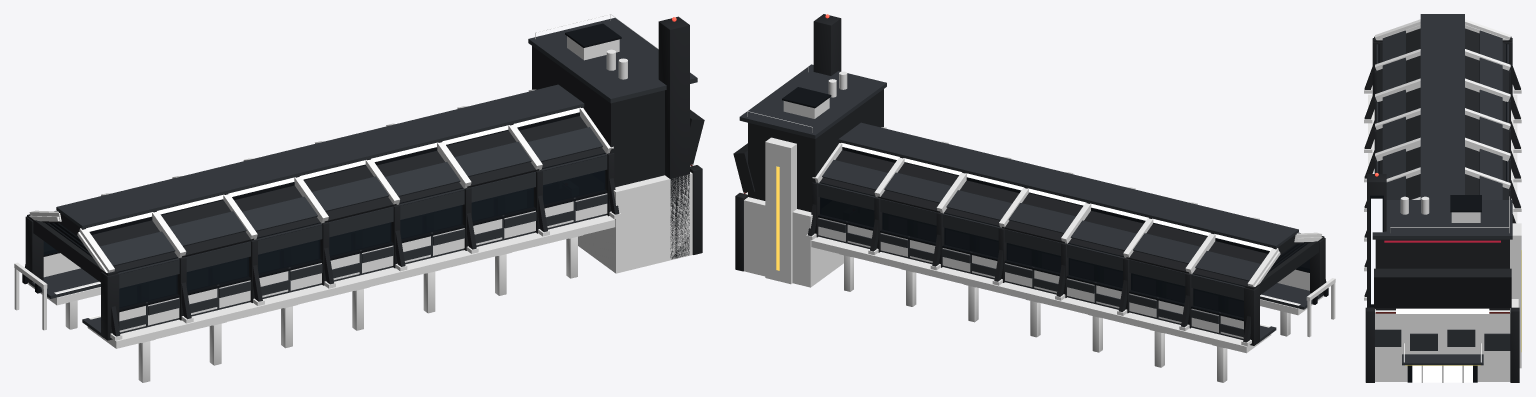
Rendered from train_station.gltf.
3 renders of one model, left to right at view 1: azimuth 30°, elevation 25°; view 2: azimuth 150°, elevation 25°; view 3: azimuth 270°, elevation 25°, orthographic. The views are drawn at different scales.
Visible parts, largest first — view 1: panel, graphite, steel, concrete, glass, dark, ice, mech; view 2: panel, graphite, steel, concrete, glass, dark, ice, mech; view 3: panel, graphite, steel, interior, dark, concrete, sign, halo, mech, titanium, lamp, detail_steel.
Boxes of the visible parts, left/top/right/bottom form: panel: left=29, top=18, right=697, bottom=337; graphite: left=25, top=16, right=704, bottom=340; steel: left=14, top=89, right=692, bottom=342; concrete: left=28, top=215, right=615, bottom=382; glass: left=43, top=170, right=605, bottom=307; dark: left=22, top=23, right=621, bottom=312; ice: left=56, top=108, right=579, bottom=318; mech: left=567, top=36, right=619, bottom=60; panel: left=739, top=64, right=1322, bottom=343; graphite: left=733, top=14, right=1326, bottom=345; steel: left=744, top=127, right=1335, bottom=348; concrete: left=811, top=236, right=1323, bottom=382; glass: left=820, top=197, right=1309, bottom=317; dark: left=782, top=87, right=1328, bottom=321; ice: left=842, top=143, right=1298, bottom=326; mech: left=783, top=98, right=829, bottom=118; panel: left=1372, top=14, right=1512, bottom=365; graphite: left=1364, top=28, right=1520, bottom=382; steel: left=1364, top=19, right=1521, bottom=382; interior: left=1396, top=308, right=1489, bottom=382; dark: left=1370, top=44, right=1506, bottom=382; concrete: left=1368, top=94, right=1517, bottom=342; sign: left=1371, top=198, right=1382, bottom=304; halo: left=1384, top=240, right=1500, bottom=242; mech: left=1451, top=212, right=1480, bottom=222; titanium: left=1400, top=196, right=1429, bottom=214; lamp: left=1405, top=250, right=1521, bottom=365; detail_steel: left=1390, top=196, right=1509, bottom=233.
Bounding box in the file's own units: 109 × 38.05 × 27.07.
